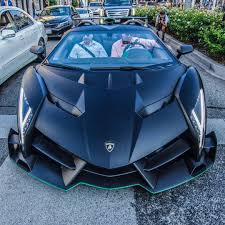Lamborghini: (52, 29, 203, 181)
